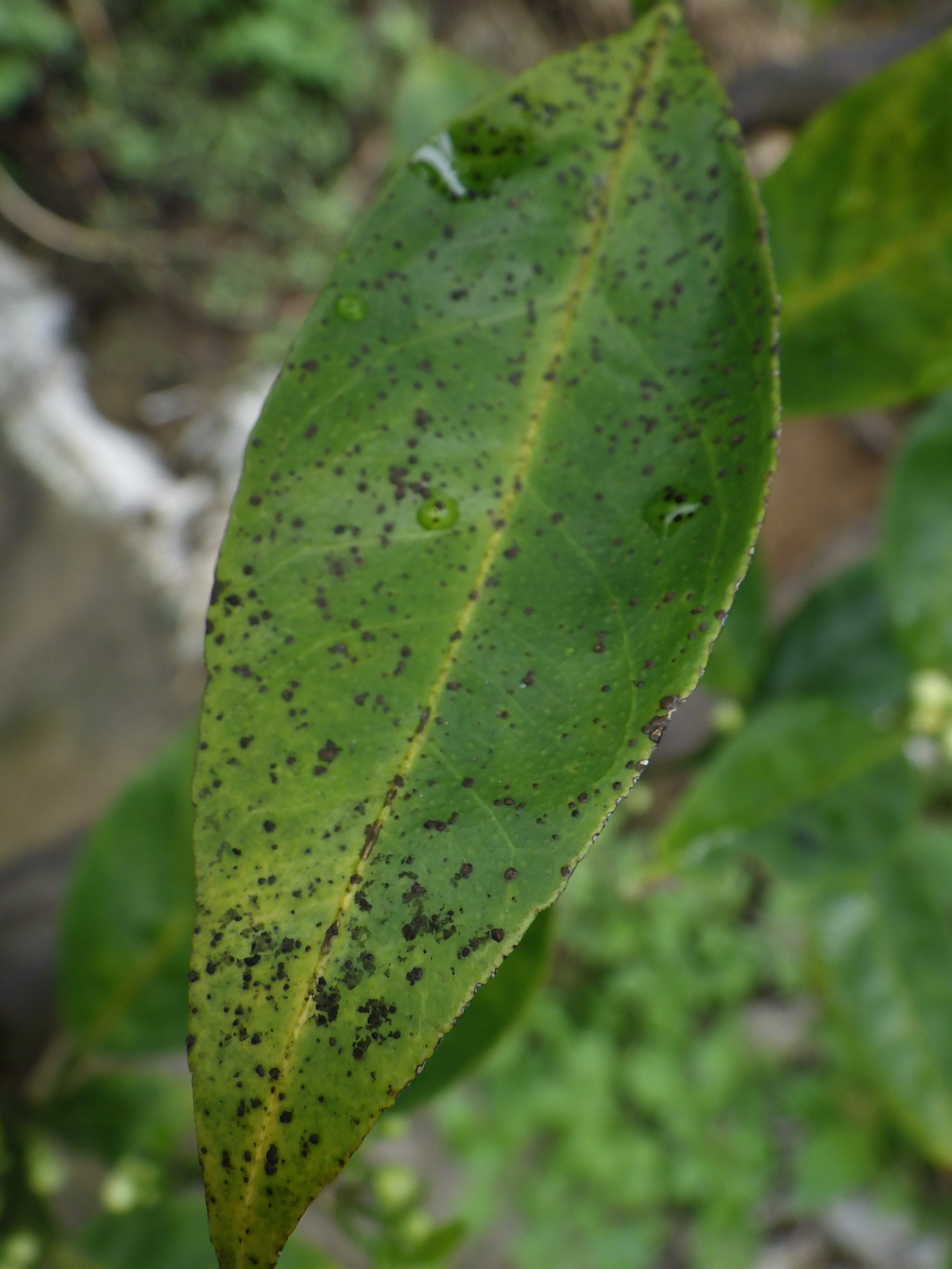Oily_Spot: (187, 5, 778, 1268)
